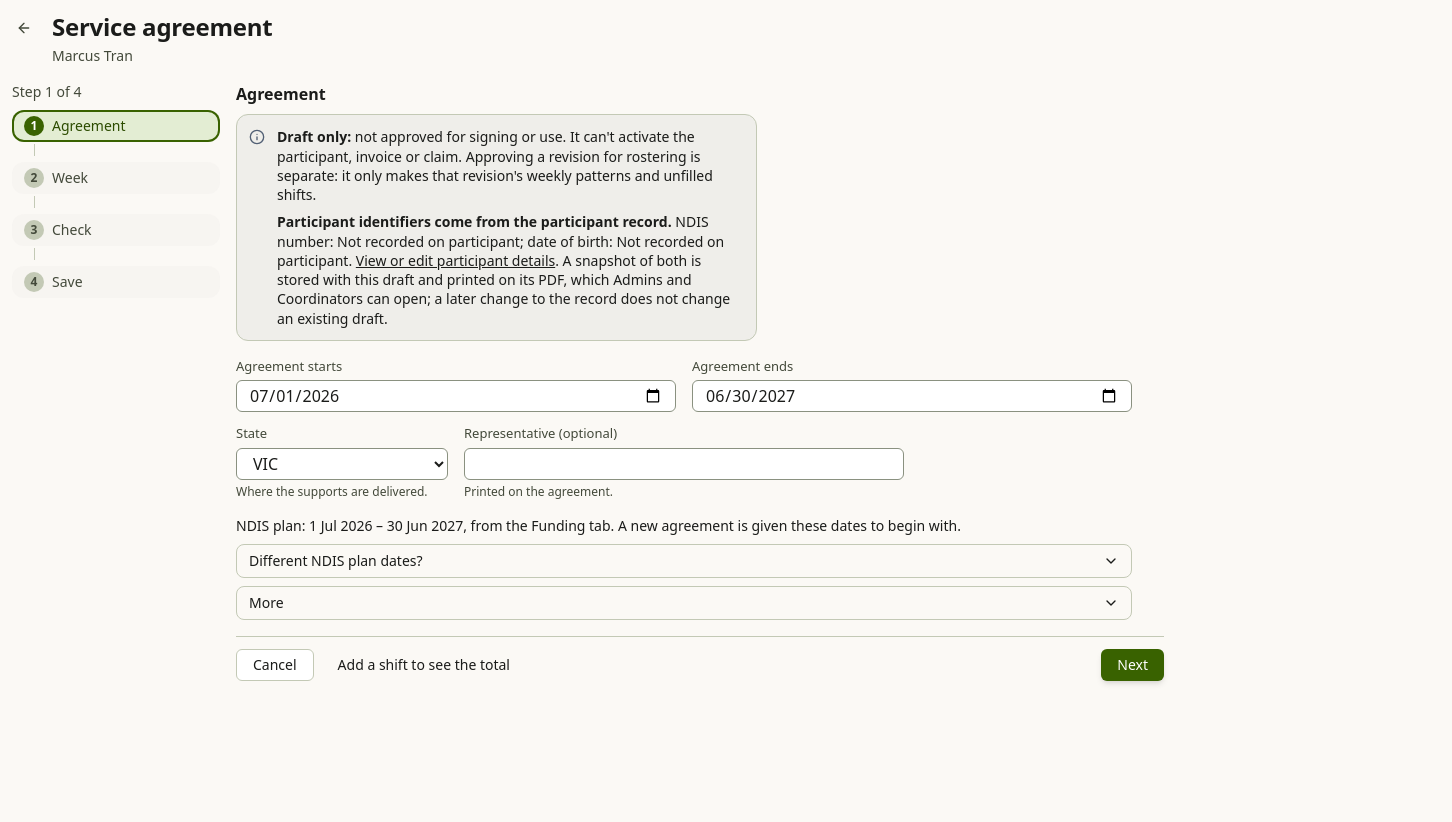
Test: ServiceAgreementDraftPage: the wizard › will not leave an empty week
Click the button "Next" at point(1133, 665), box top-left (1101, 649), bottom-right (1164, 681)
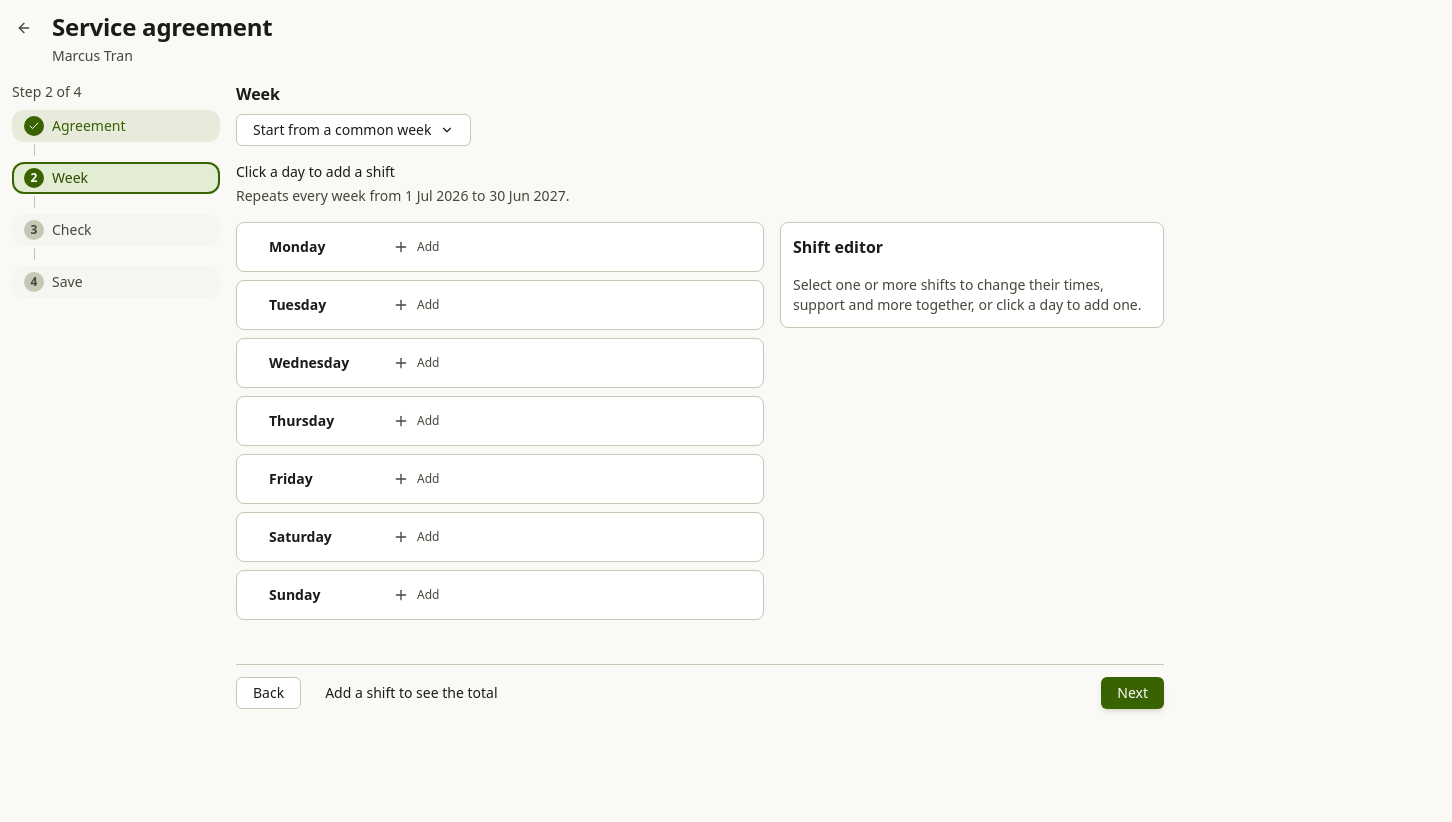
Click the button "Next" at point(1133, 693), box top-left (1101, 677), bottom-right (1164, 709)
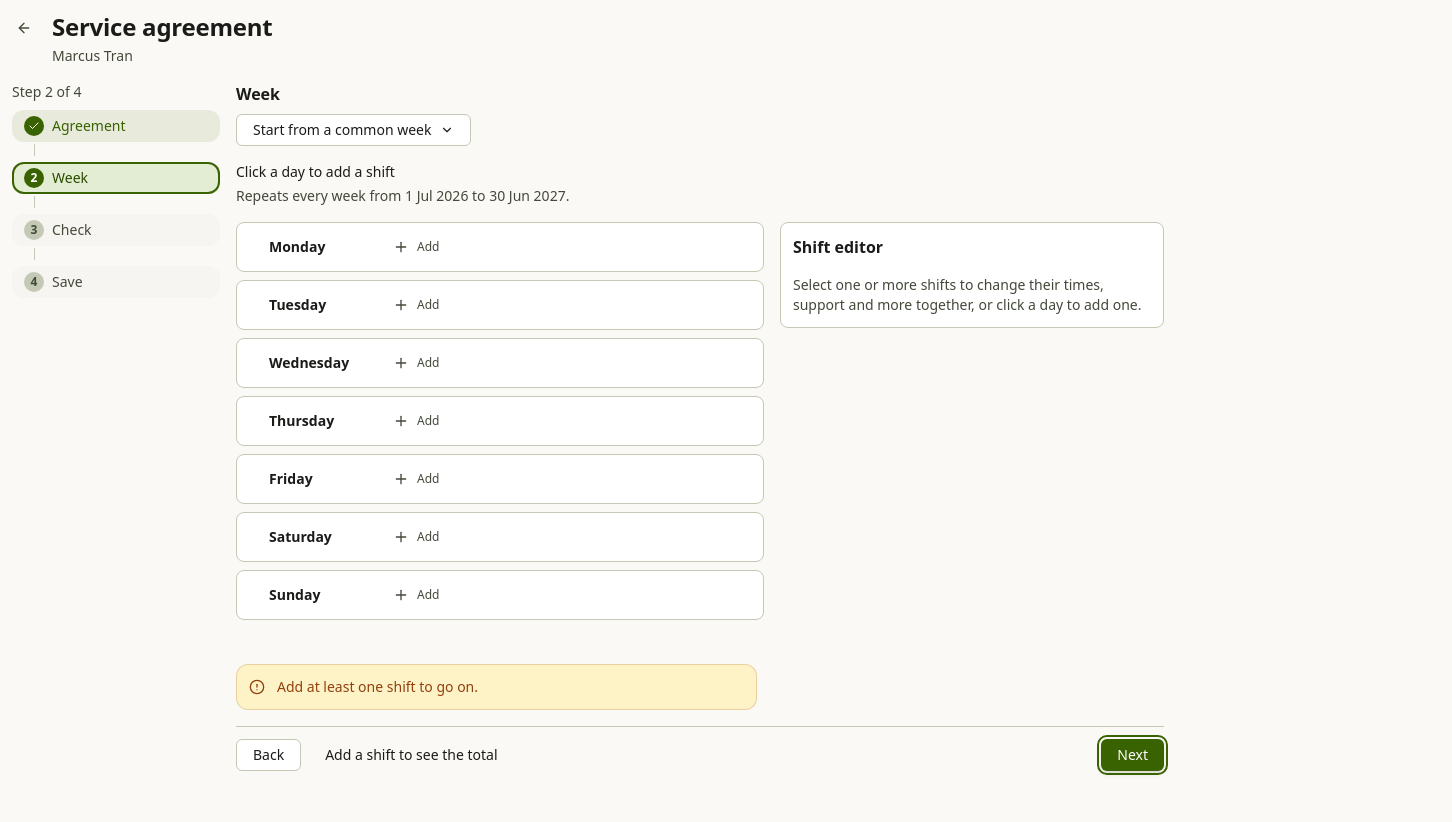
Now the heading "Week" is shown, box top-left (236, 83), bottom-right (280, 105)
Now the text "Add at least one shift to go on." is shown, box top-left (277, 677), bottom-right (478, 696)
